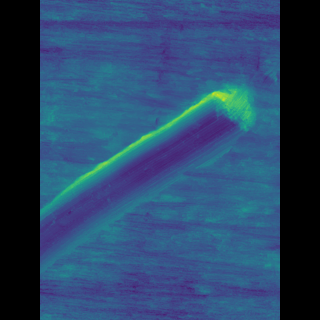Loch: (68, 74, 235, 277)
